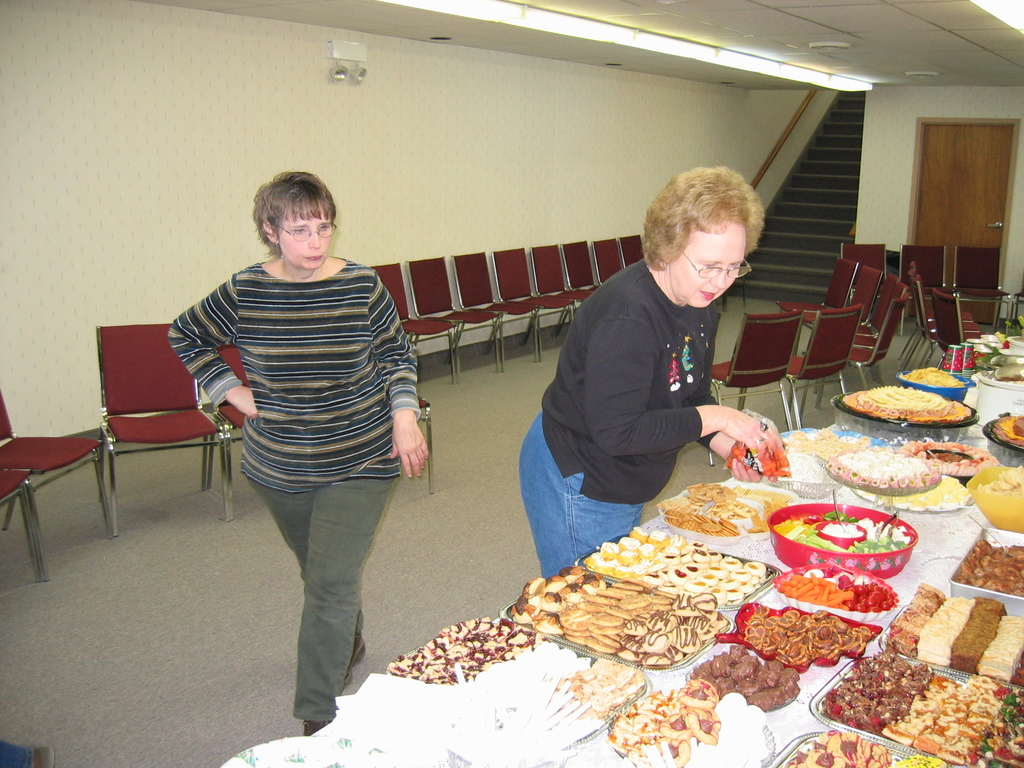Table: (194, 279, 1023, 767)
